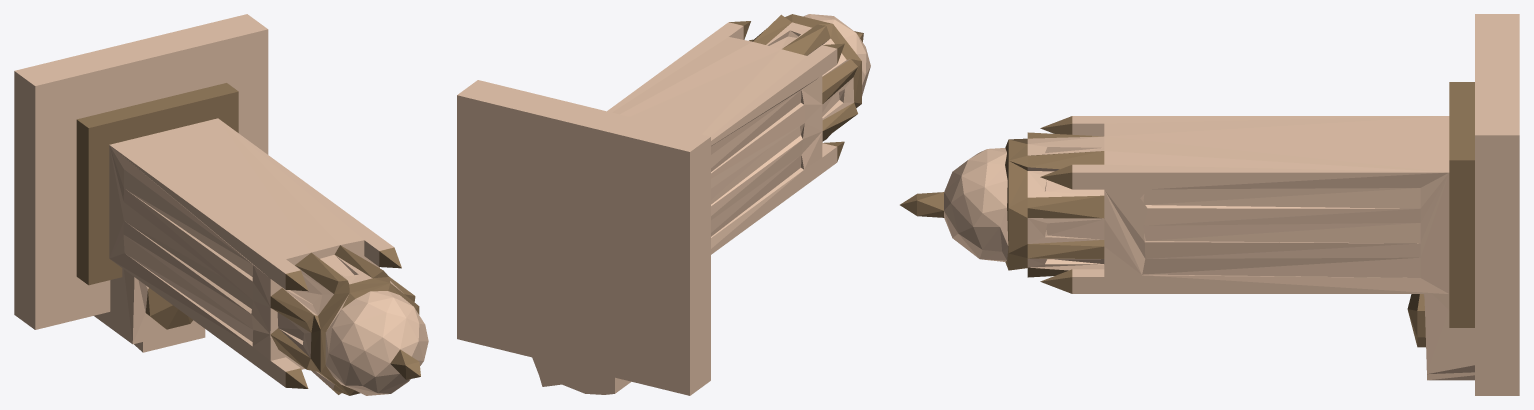
File: hoover.glb
3 renders of one model, left to right at view 1: azimuth 30°, elevation 25°; view 2: azimuth 150°, elevation 25°; view 3: azimuth 270°, elevation 25°, orthographic. The views are drawn at different scales.
Parts seen in each view (by area): view 1: building.002; view 2: building.002; view 3: building.002.
Boxes of the visible parts, x1,y1,x2,y2 form: building.002: (14, 14, 428, 395); building.002: (457, 14, 870, 395); building.002: (900, 14, 1519, 395).
Size of what is drawn, in the model's own units: 1.28 by 1.42 by 2.76.
